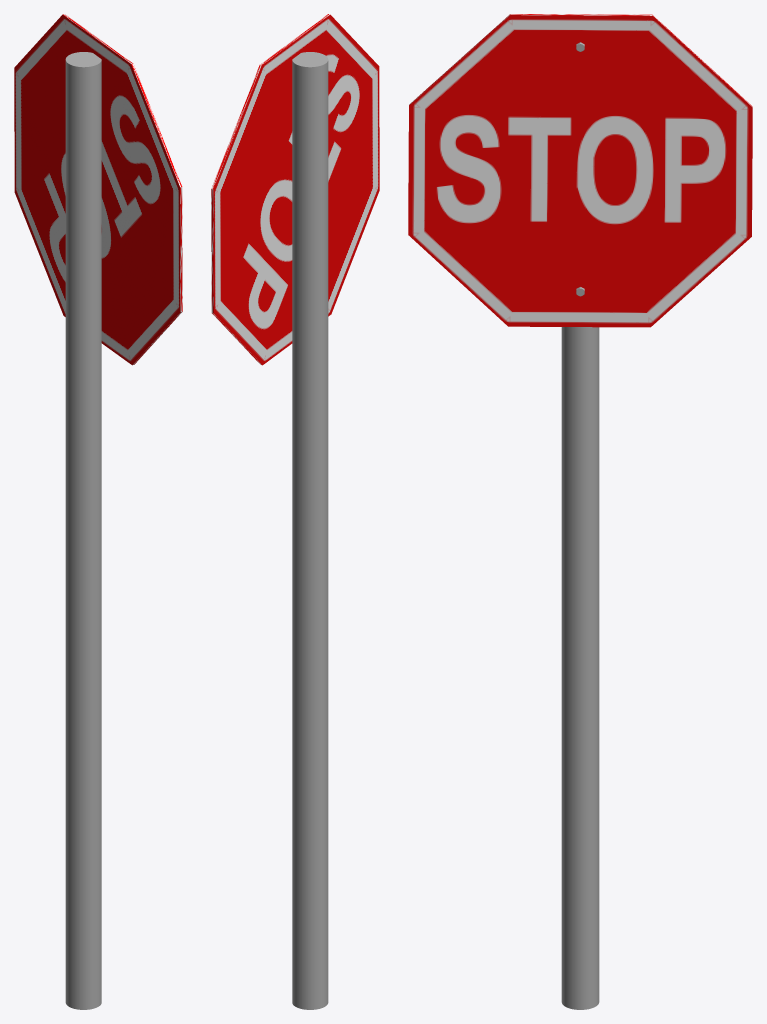
The model's file is StopSign.gltf.
The picture shows the model from 3 angles, left to right: view 1: azimuth 30°, elevation 25°; view 2: azimuth 150°, elevation 25°; view 3: azimuth 270°, elevation 25°; orthographic projection. The views are drawn at different scales.
Visible parts, largest first — view 1: Cylinder, Cylinder.001; view 2: Cylinder, Cylinder.001; view 3: Cylinder.001, Cylinder.
Boxes of the visible parts, box(x1,y1,x2,y2) form: Cylinder: box(65, 52, 101, 1009); Cylinder.001: box(14, 14, 182, 365); Cylinder: box(292, 52, 328, 1009); Cylinder.001: box(211, 14, 379, 365); Cylinder.001: box(408, 14, 752, 327); Cylinder: box(561, 327, 599, 1009).
Bounding box in the file's own units: 0.2202 × 5.9 × 1.85.
Materials: 3 (2 with a texture image).
